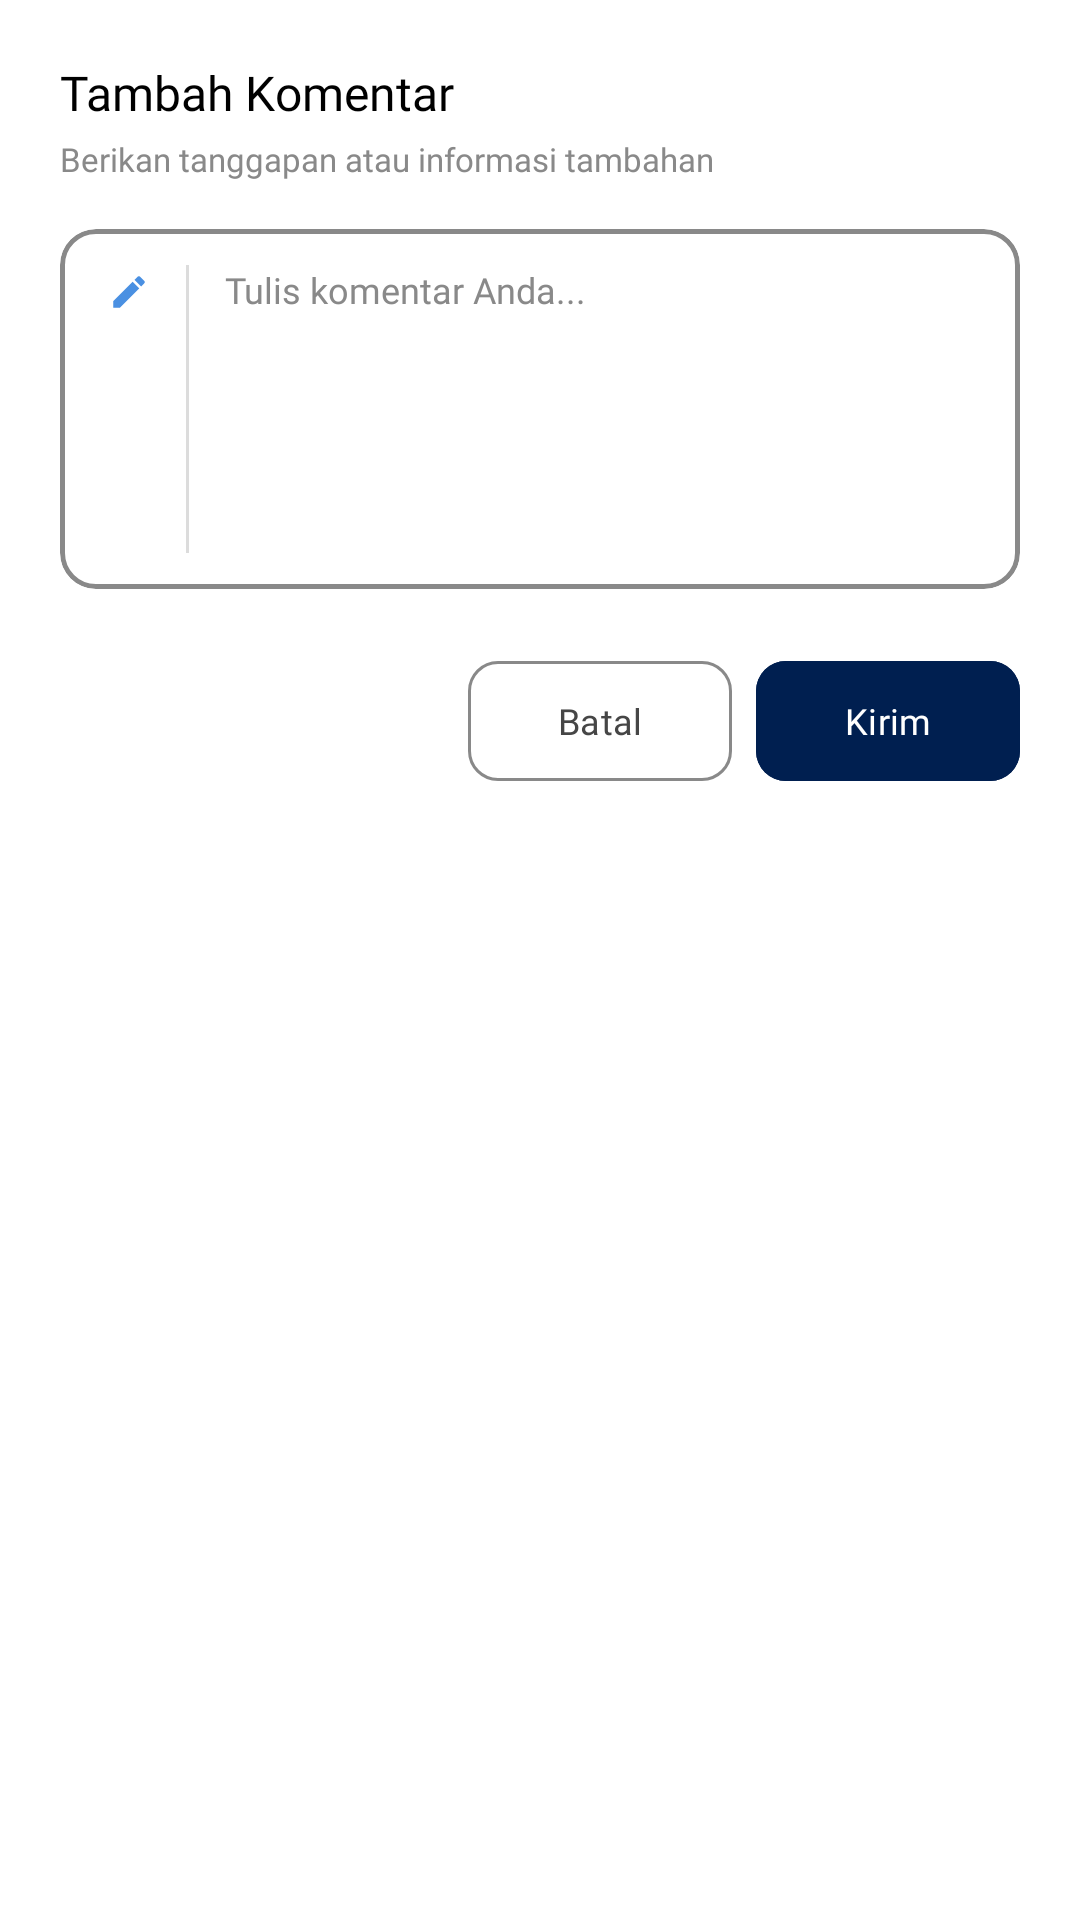

Icon click points for this 1080px x 1920px phone screenshot, format (x,y):
pencils: (129,292)
